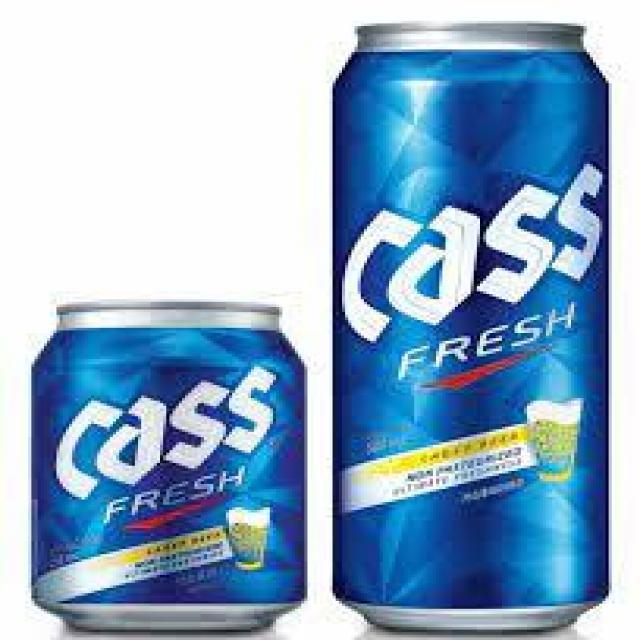beer-can: (333, 18, 621, 635), (32, 300, 310, 634)
